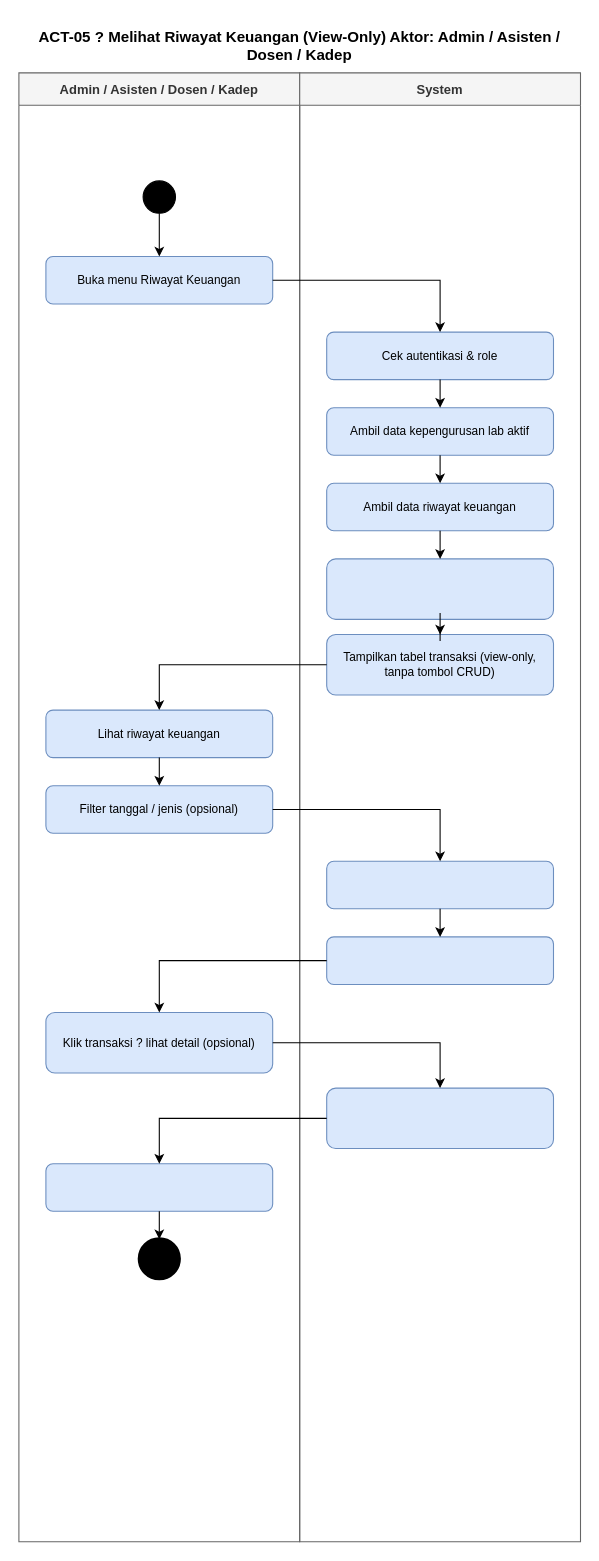
Some shapes in this 599 by 1561 pixel diagram are drawn without their labels. Here are the shapes that lost their labels. From the top down, the centre of each, then its label:
At point 440,588: "Hitung total pemasukan, pengeluaran, saldo".
At point 440,884: "Perbarui tampilan sesuai filter".
At point 440,960: "Perbarui tampilan".
At point 440,1118: "Tampilkan detail transaksi (nominal, bukti, deskripsi)".
At point 159,1187: "Lihat detail transaksi".
